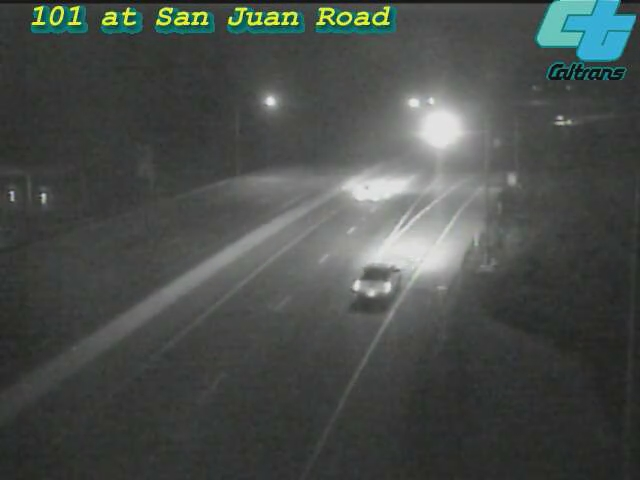vehicle: (332, 148, 412, 228), (339, 240, 419, 320), (413, 105, 463, 155), (542, 94, 592, 144)
